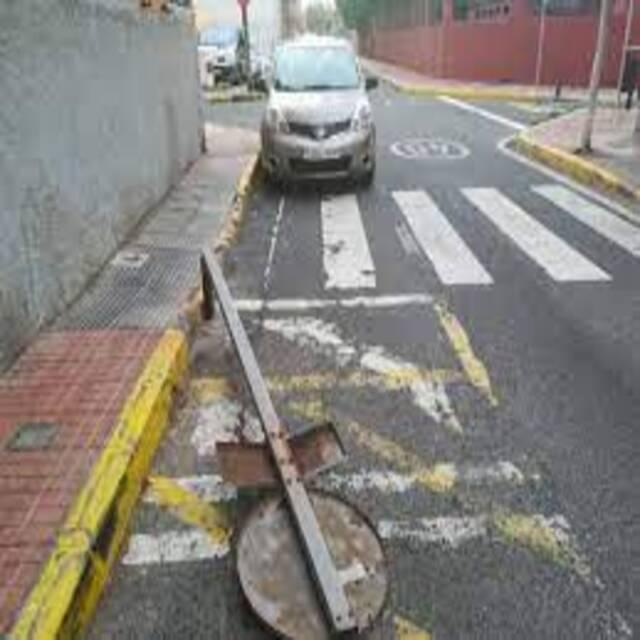Inclined Pole: (166, 236, 413, 640)
